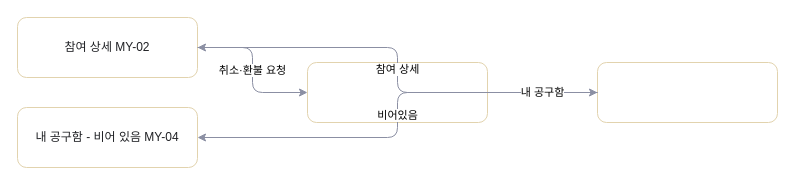
Some shapes in this 795 by 185 pixel diagram are drawn without their labels. Each missing label, with the centre of its shape:
"내 공구함 MY-01" goes at point (687, 92).
"참여 취소·환불 요청 MY-03" goes at point (397, 92).
